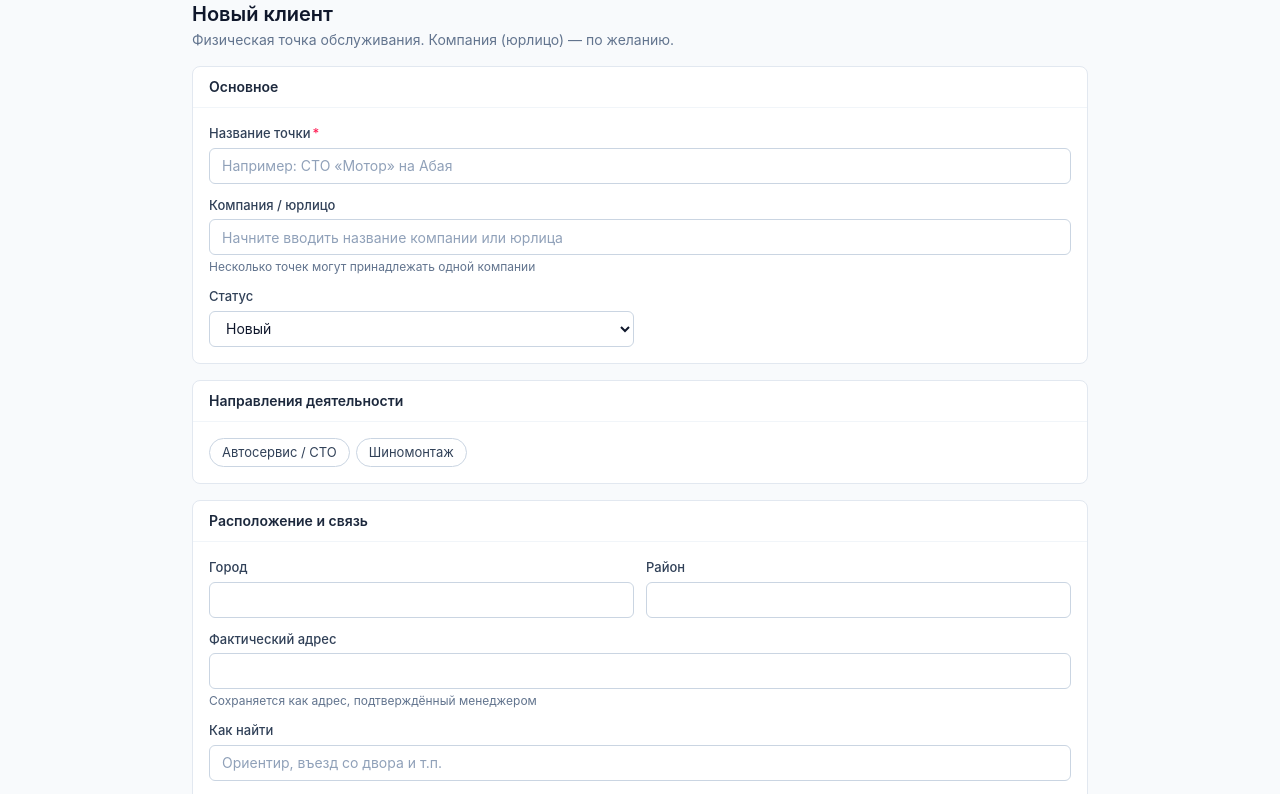
it: Форма нового клиента › при ошибке сервера не теряет введённые данные
The image size is (1280, 794).
Type "СТО Мотор" into the field labelled "Название точки*".
click(640, 166); type("СТО Мотор")  # box [209,148,1071,184]
(page scrolled)
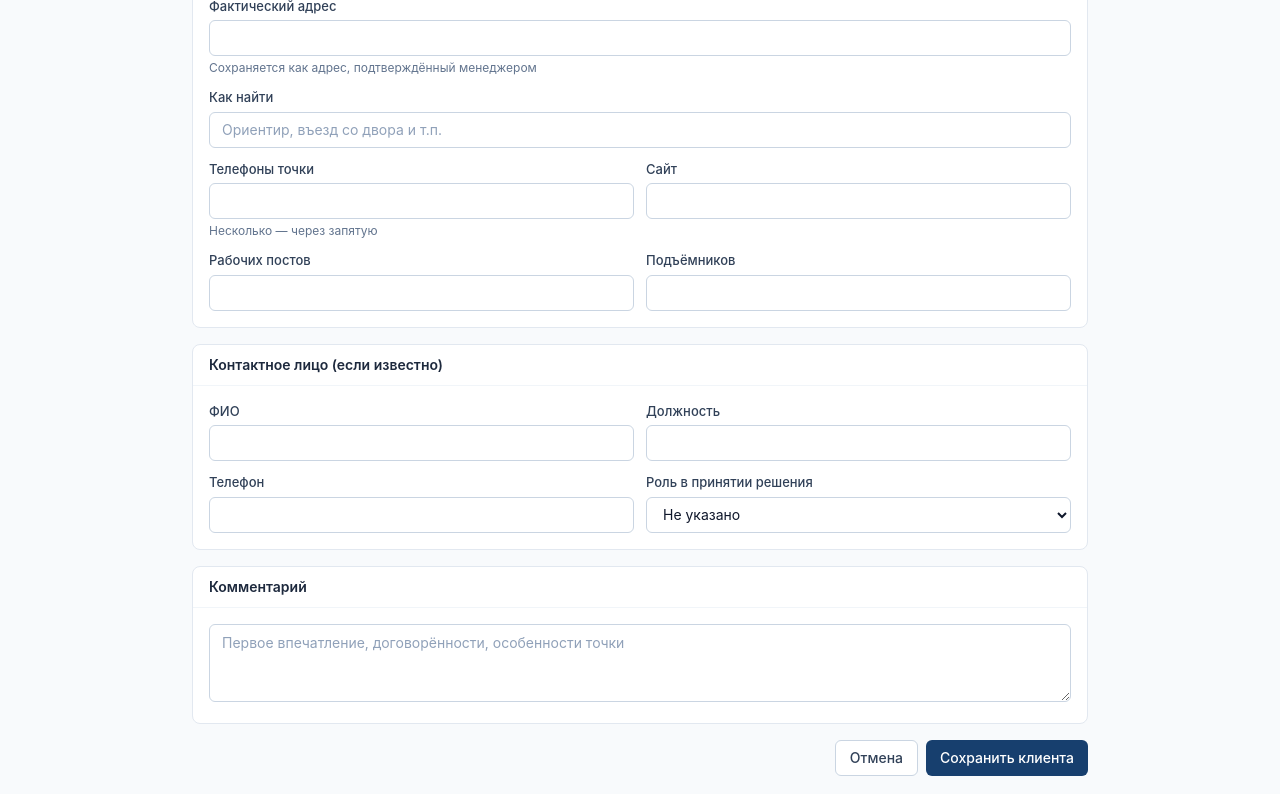
Click the button "Сохранить клиента".
click(1007, 758)  # box [926,740,1088,776]
(page scrolled)
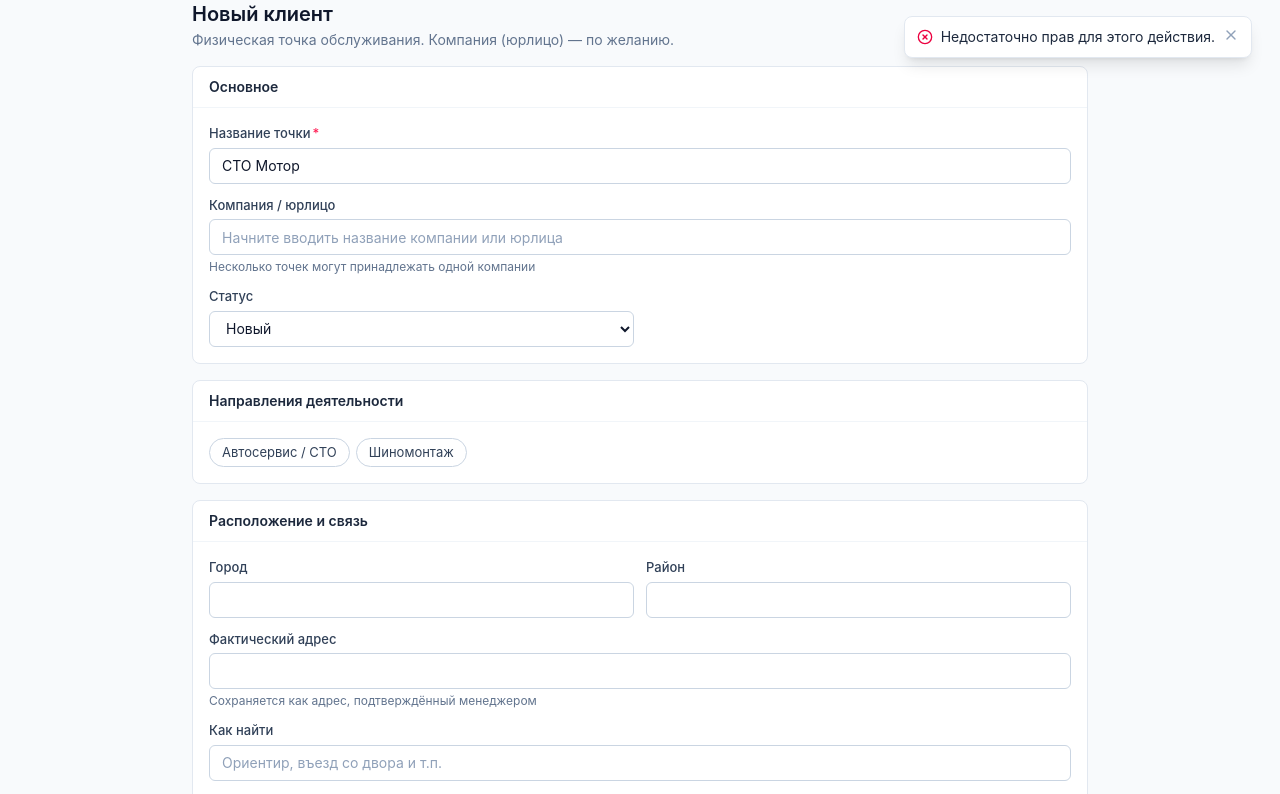
Check: the text "Недостаточно прав для этого действия." is shown, box [941,27,1215,47]
